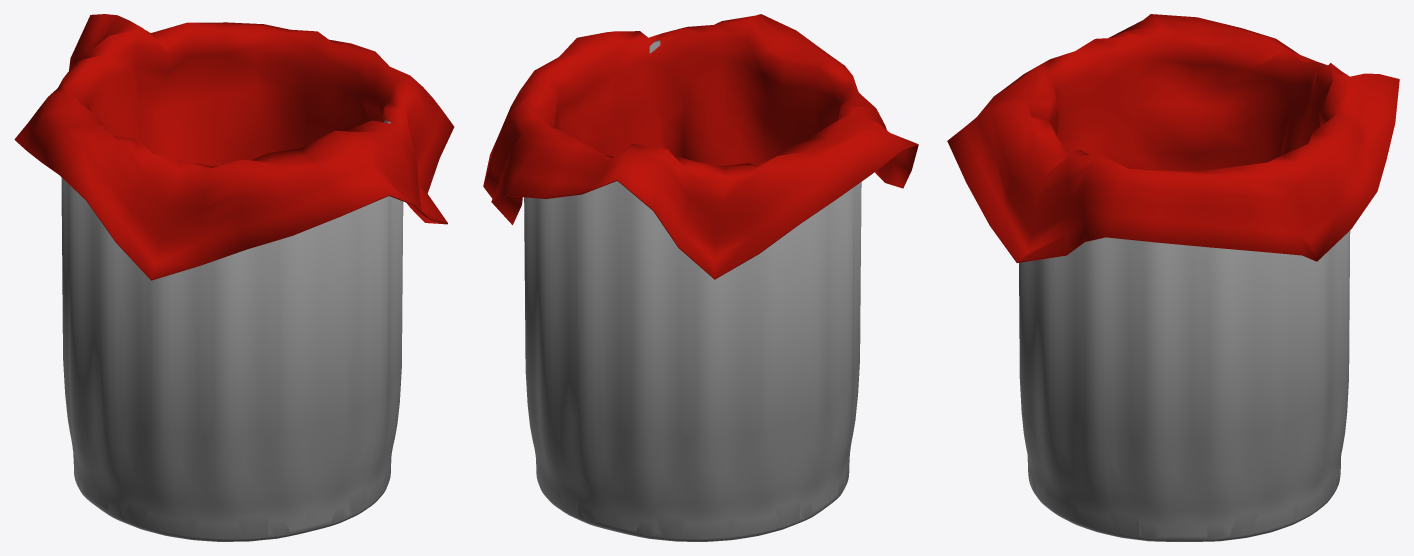
File: red_can.fbx
The picture shows the model from 3 angles, left to right: view 1: azimuth 30°, elevation 25°; view 2: azimuth 150°, elevation 25°; view 3: azimuth 270°, elevation 25°; orthographic projection.
Parts seen in each view (by area): view 1: Circle.001; view 2: Circle.001; view 3: Circle.001.
Part boxes in pixels (left/top/right/bottom): Circle.001: left=14, top=14, right=454, bottom=541; Circle.001: left=483, top=14, right=918, bottom=541; Circle.001: left=947, top=14, right=1399, bottom=541.
Bounding box in the file's own units: 272 × 278 × 288.
